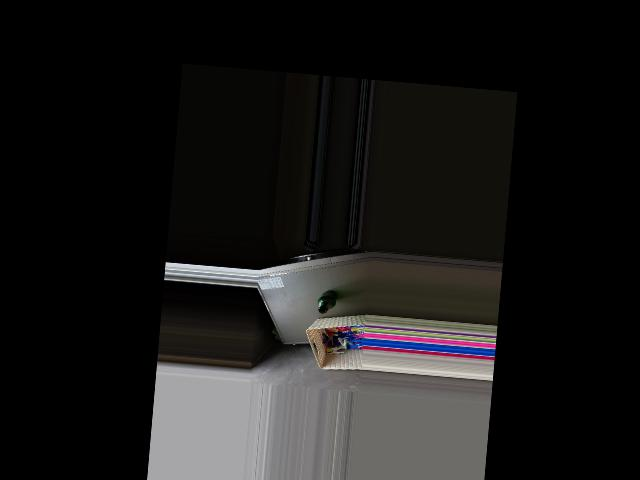beer: (318, 289, 337, 314)
